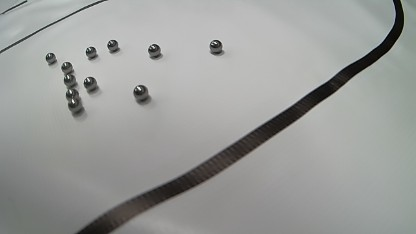ironball: (133, 84, 149, 101), (67, 98, 82, 113), (83, 76, 97, 91), (209, 39, 222, 53), (65, 88, 79, 101), (63, 74, 76, 87), (148, 44, 161, 57), (61, 61, 73, 73), (85, 46, 97, 58), (107, 39, 118, 52), (45, 52, 56, 64)
